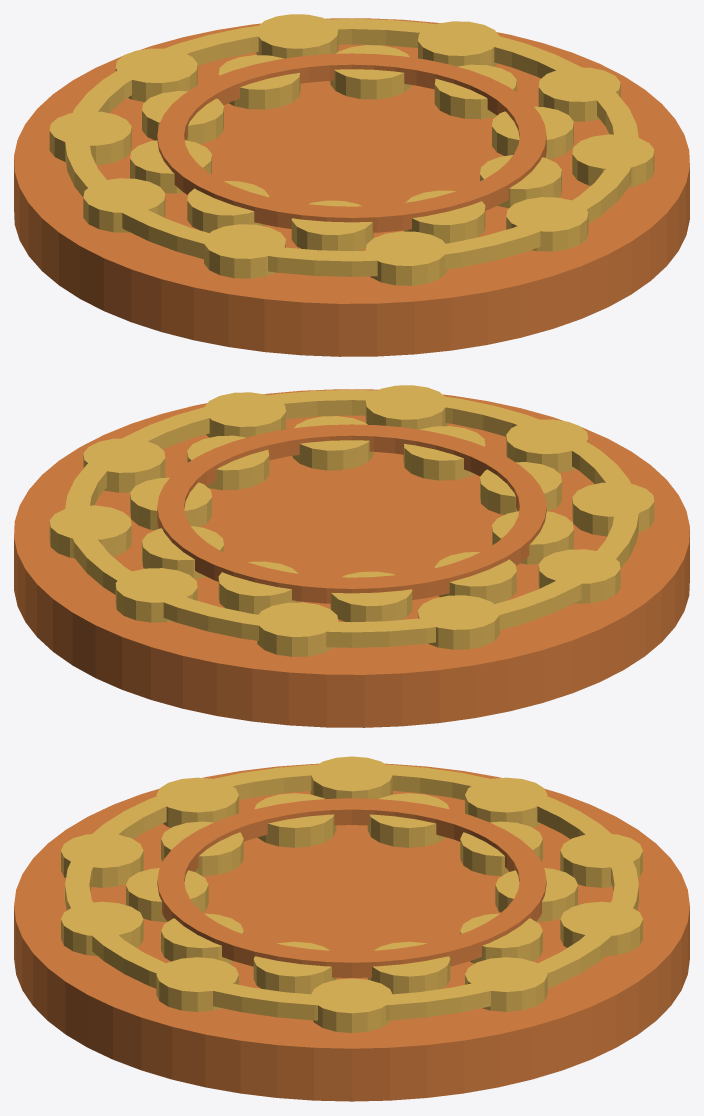
The model's file is 21_L76_SegmentedCopperAnodeAssembly.fbx.
3 views of the same model, one above another, from view 1: azimuth 30°, elevation 25°; view 2: azimuth 150°, elevation 25°; view 3: azimuth 270°, elevation 25° (orthographic).
Parts seen in each view (by area): view 1: SegmentedCopperAnodeAssembly, SegmentedCopperAnodeAssembly_Part_0021, SegmentedCopperAnodeAssembly_Part_0022; view 2: SegmentedCopperAnodeAssembly, SegmentedCopperAnodeAssembly_Part_0021, SegmentedCopperAnodeAssembly_Part_0022; view 3: SegmentedCopperAnodeAssembly, SegmentedCopperAnodeAssembly_Part_0021, SegmentedCopperAnodeAssembly_Part_0022.
Boxes of the visible parts, x1,y1,x2,y2 form: SegmentedCopperAnodeAssembly: [14, 14, 689, 356]; SegmentedCopperAnodeAssembly_Part_0021: [65, 18, 638, 276]; SegmentedCopperAnodeAssembly_Part_0022: [157, 53, 546, 232]; SegmentedCopperAnodeAssembly: [14, 385, 689, 727]; SegmentedCopperAnodeAssembly_Part_0021: [65, 389, 638, 647]; SegmentedCopperAnodeAssembly_Part_0022: [157, 424, 546, 603]; SegmentedCopperAnodeAssembly: [14, 756, 689, 1101]; SegmentedCopperAnodeAssembly_Part_0021: [65, 763, 638, 1020]; SegmentedCopperAnodeAssembly_Part_0022: [157, 798, 546, 977].
Size of the model in its own units: 278 by 35.5 by 278.
